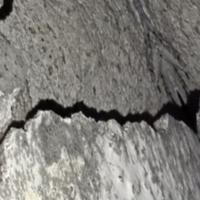crack: (3, 77, 199, 165)
